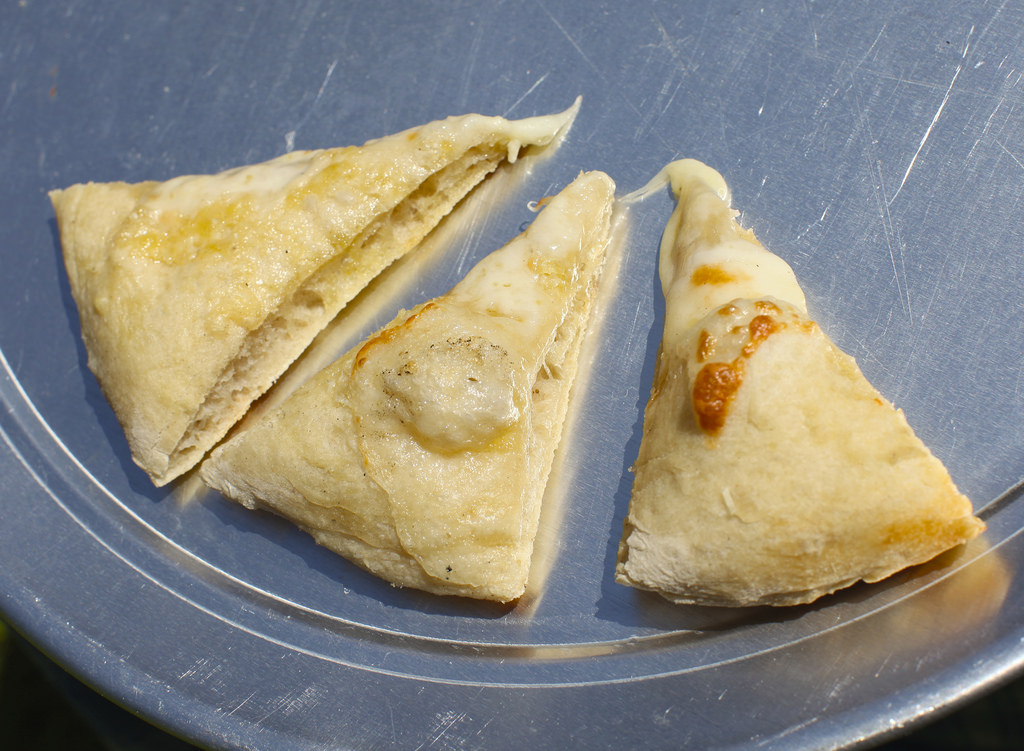slice of bread: (59, 116, 592, 617), (631, 167, 975, 609)
